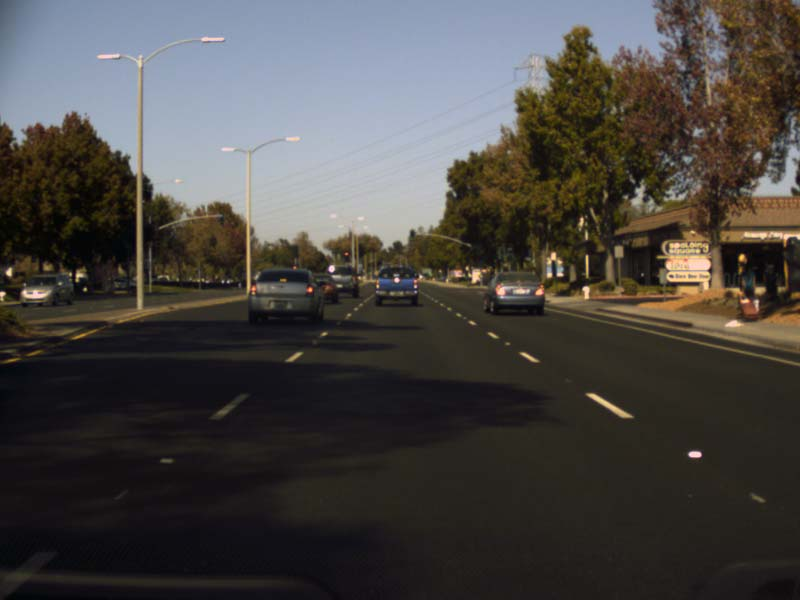Green: (409, 230, 414, 241)
Red: (342, 251, 349, 261)
